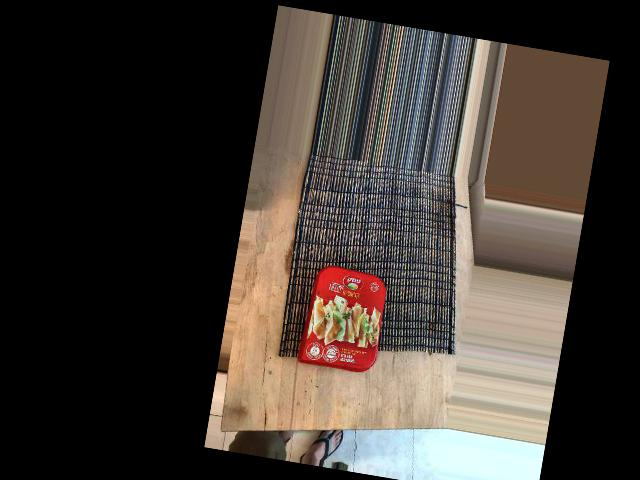cheese: (295, 259, 395, 384)
